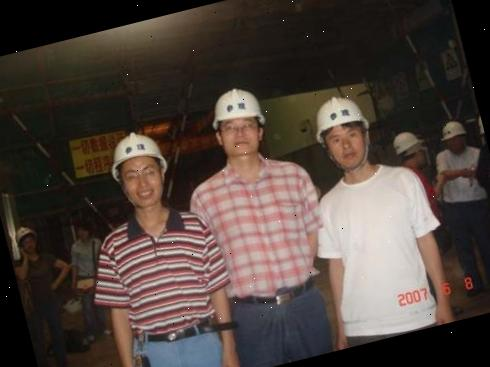helmet: (206, 78, 274, 136), (304, 88, 369, 138), (104, 126, 164, 170), (386, 123, 429, 157), (436, 114, 471, 142), (13, 222, 38, 241)
no_wear: (304, 160, 463, 348), (193, 152, 338, 312), (98, 208, 227, 346), (428, 142, 490, 211)
